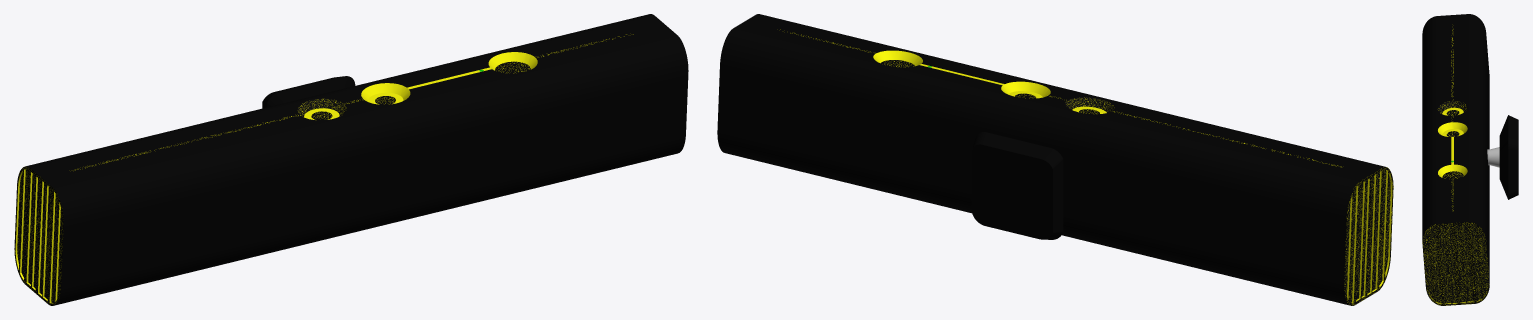
File: bot_kinect.dae
3 renders of one model, left to right at view 1: azimuth 30°, elevation 25°; view 2: azimuth 150°, elevation 25°; view 3: azimuth 270°, elevation 25°, orthographic. The views are drawn at different scales.
Parts seen in each view (by area): view 1: SketchUp (×6); view 2: SketchUp (×6); view 3: SketchUp (×18).
Part boxes in pixels (x1=…): SketchUp (×6): x1=14, y1=14, x2=688, y2=305; SketchUp (×6): x1=717, y1=14, x2=1393, y2=305; SketchUp (×18): x1=1422, y1=14, x2=1518, y2=305.
Bounding box in the file's own units: 11.94 × 2.33 × 2.25.
